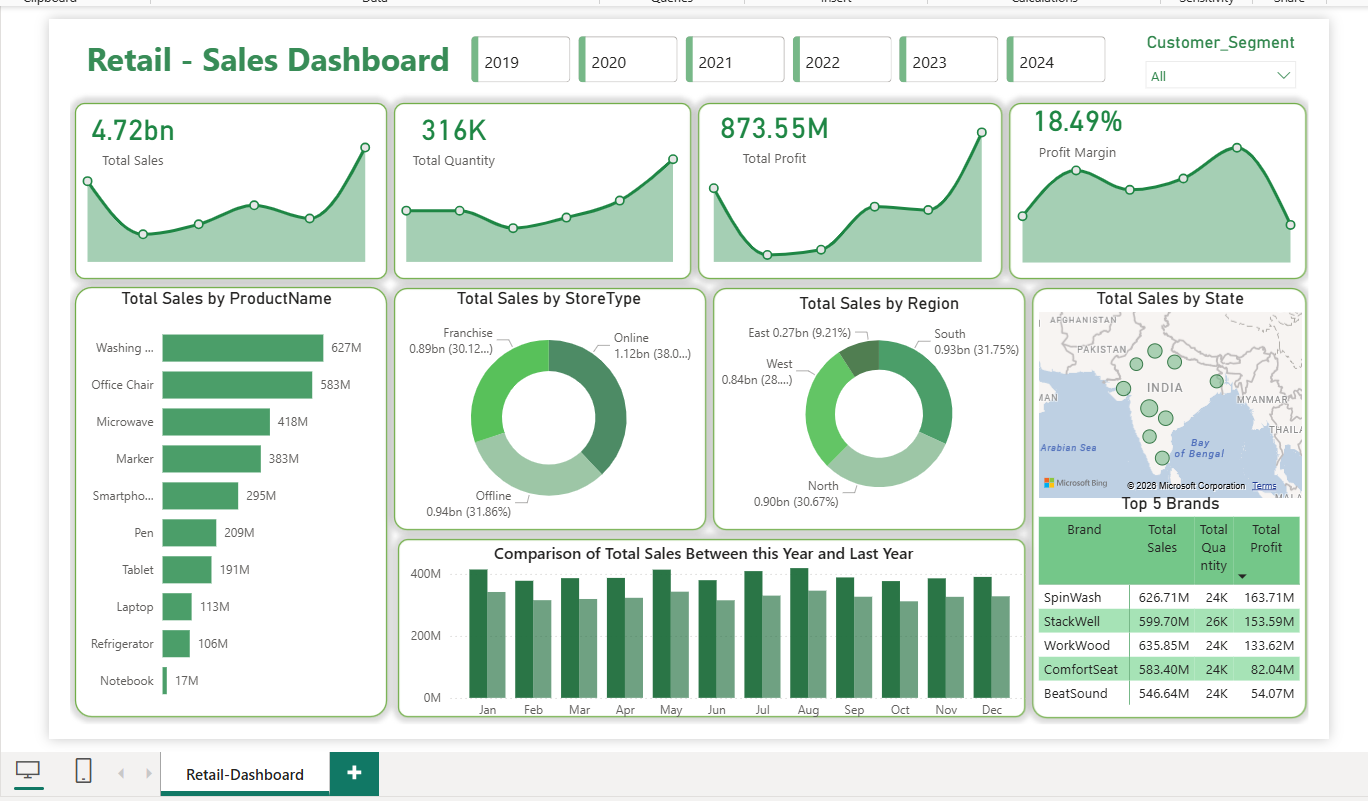

The dashboard page shown, as its layout file describes it:
{"tool":"powerbi","page":{"name":"Retail-Dashboard","canvas":[1280,720],"ordinal":0},"visuals":[{"type":"textbox","box":[32.5,12.5,432.5,60],"z":0},{"type":"card","fields":{"Values":["Dim_Store.Total Sales"]},"box":[8.4,72.4,150.8,90.5],"z":1000},{"type":"card","fields":{"Values":["Dim_Store.Profit Margin"]},"box":[948.8,72.5,160,73.8],"z":2000},{"type":"card","fields":{"Values":["Dim_Store.Total Profit"]},"box":[640,78.8,171.2,73.8],"z":3000},{"type":"card","fields":{"Values":["Dim_Store.Total Quantity"]},"box":[318.5,72.4,172.5,90.5],"z":4000},{"type":"areaChart","fields":{"Y":["Dim_Store.Total Sales"],"Category":["Calender.Date.Variation.Date Hierarchy.Year"]},"box":[24.1,92.9,307.6,155.6],"z":5000},{"type":"areaChart","fields":{"Y":["Dim_Store.Total Quantity"],"Category":["Calender.Date.Variation.Date Hierarchy.Year"]},"box":[342.6,92.9,296.8,155.6],"z":6000},{"type":"areaChart","fields":{"Category":["Calender.Date.Variation.Date Hierarchy.Year"],"Y":["Dim_Store.Total Profit"]},"box":[650.3,92.9,298,155.6],"z":7000},{"type":"areaChart","fields":{"Category":["Calender.Date.Variation.Date Hierarchy.Year"],"Y":["Dim_Store.Profit Margin"]},"box":[959.1,109.8,298,138.7],"z":8000},{"type":"barChart","fields":{"Y":["Dim_Store.Total Sales"],"Category":["Dim_Product.ProductName"]},"box":[24.1,269,307.6,427.1],"z":9000},{"type":"donutChart","fields":{"Category":["Dim_Store.StoreType"],"Y":["Dim_Store.Total Sales"]},"box":[342.6,269,314.9,241.3],"z":10000},{"type":"donutChart","fields":{"Y":["Dim_Store.Total Sales"],"Category":["Dim_Customer.Region"]},"box":[661.1,273.9,337.8,223.2],"z":11000},{"type":"clusteredColumnChart","fields":{"Category":["Calender.Month_name"],"Y":["Dim_Store.Total Sales","Dim_Store.Sales LY"]},"box":[355.9,510.3,628.6,199.1],"z":12000},{"type":"map","fields":{"Category":["Dim_Customer.State"],"Size":["Dim_Store.Total Sales"]},"box":[984.5,269,272.7,214.7],"z":13000},{"type":"pivotTable","title":"Top 5 Brands","fields":{"Rows":["Dim_Product.Brand"],"Values":["Dim_Store.Total Sales","Dim_Store.Total Quantity","Dim_Store.Total Profit"]},"box":[984.5,474.1,272.7,222],"z":14000},{"type":"advancedSlicerVisual","fields":{"Values":["Calender.Date.Variation.Date Hierarchy.Year"]},"box":[417,12.2,644.4,56.3],"z":15000},{"type":"slicer","title":"Customer_Segment","fields":{"Values":["Dim_Customer.Segment"]},"box":[1085.9,12.2,171.2,66],"z":16000},{"type":"textbox","box":[440,517,479,38],"z":17000}]}

Visuals, with their boxes on the page's 1280x720 design canvas (x1, y1, x2, y2). These are canvas units, not pixel positions in the 1368x801 screenshot, which may show the page scaled, cropped or inside an application window:
textbox: BBox(32, 12, 465, 72)
card - Dim_Store.Total Sales: BBox(8, 72, 159, 163)
card - Dim_Store.Profit Margin: BBox(949, 72, 1109, 146)
card - Dim_Store.Total Profit: BBox(640, 79, 811, 153)
card - Dim_Store.Total Quantity: BBox(318, 72, 491, 163)
areaChart - Dim_Store.Total Sales x Calender.Date.Variation.Date Hierarchy.Year: BBox(24, 93, 332, 248)
areaChart - Dim_Store.Total Quantity x Calender.Date.Variation.Date Hierarchy.Year: BBox(343, 93, 639, 248)
areaChart - Calender.Date.Variation.Date Hierarchy.Year x Dim_Store.Total Profit: BBox(650, 93, 948, 248)
areaChart - Calender.Date.Variation.Date Hierarchy.Year x Dim_Store.Profit Margin: BBox(959, 110, 1257, 248)
barChart - Dim_Store.Total Sales x Dim_Product.ProductName: BBox(24, 269, 332, 696)
donutChart - Dim_Store.StoreType x Dim_Store.Total Sales: BBox(343, 269, 658, 510)
donutChart - Dim_Store.Total Sales x Dim_Customer.Region: BBox(661, 274, 999, 497)
clusteredColumnChart - Calender.Month_name x Dim_Store.Total Sales: BBox(356, 510, 984, 709)
map - Dim_Customer.State x Dim_Store.Total Sales: BBox(984, 269, 1257, 484)
"Top 5 Brands" pivotTable: BBox(984, 474, 1257, 696)
advancedSlicerVisual - Calender.Date.Variation.Date Hierarchy.Year: BBox(417, 12, 1061, 68)
"Customer_Segment" slicer: BBox(1086, 12, 1257, 78)
textbox: BBox(440, 517, 919, 555)
